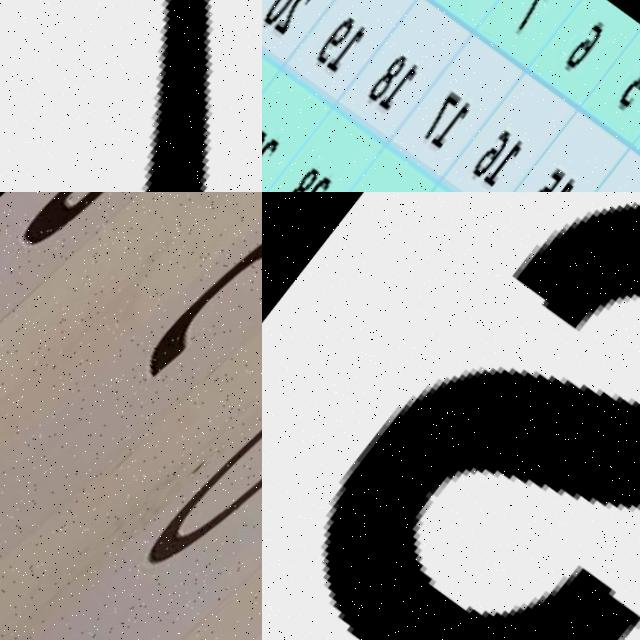0: (127, 256, 262, 626), (262, 0, 317, 38)
1: (374, 58, 429, 123), (322, 22, 375, 84), (428, 96, 481, 157), (482, 136, 534, 192), (532, 172, 589, 192)
2: (271, 0, 323, 41), (262, 132, 288, 192), (288, 173, 339, 192)
5: (115, 192, 262, 434), (613, 58, 640, 122), (518, 163, 576, 192)
6: (464, 127, 520, 192), (562, 20, 613, 80)
7: (0, 0, 262, 192), (414, 84, 471, 149), (512, 0, 559, 39)
8: (0, 192, 255, 301), (361, 49, 417, 114), (277, 165, 326, 192)
9: (309, 12, 363, 75), (262, 122, 276, 184)
S: (262, 192, 640, 640)
